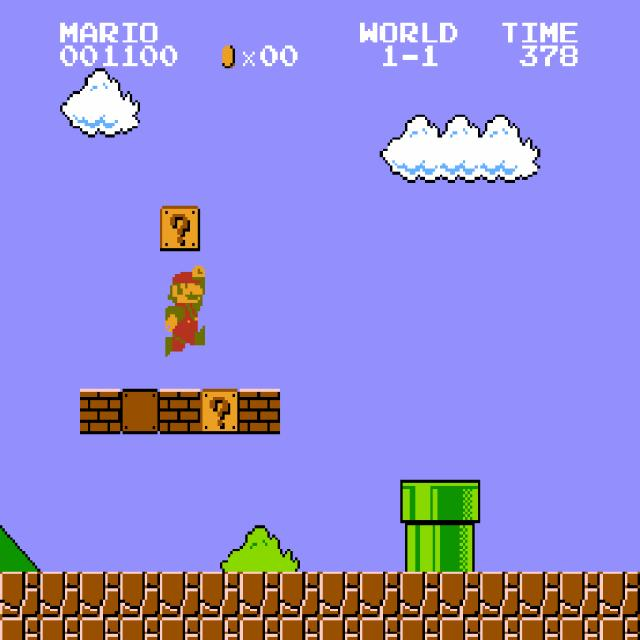big_mario: (163, 263, 205, 357)
brick_block: (80, 389, 120, 434), (160, 389, 200, 434), (240, 389, 280, 434)
empty_block: (120, 389, 160, 434)
mystery_block: (160, 206, 200, 251), (200, 389, 240, 434)
pipe: (400, 526, 440, 571), (440, 526, 480, 571)
pipe_head: (400, 480, 440, 526), (440, 480, 480, 526)
undestructible_block: (599, 571, 640, 617), (0, 571, 40, 617), (40, 572, 80, 617), (80, 572, 120, 617), (120, 572, 160, 617), (160, 572, 200, 617), (200, 572, 240, 617), (240, 572, 280, 617), (280, 572, 320, 617), (320, 572, 360, 617), (360, 572, 400, 617), (400, 572, 440, 617), (440, 572, 480, 617), (480, 572, 520, 617), (520, 572, 560, 617), (560, 572, 600, 617), (40, 617, 80, 640), (80, 617, 120, 640), (120, 617, 160, 640), (160, 617, 200, 640), (200, 617, 240, 640), (240, 617, 280, 640), (280, 617, 320, 640), (320, 617, 360, 640), (360, 617, 400, 640), (400, 617, 440, 640), (440, 617, 480, 640), (480, 617, 520, 640), (520, 617, 560, 640), (560, 617, 600, 640), (599, 617, 640, 639), (0, 617, 40, 639)
